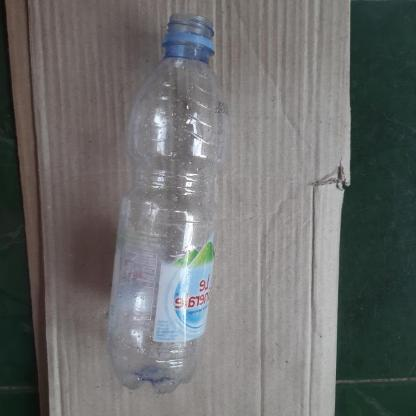Plastic Bottle: (80, 2, 280, 402)
